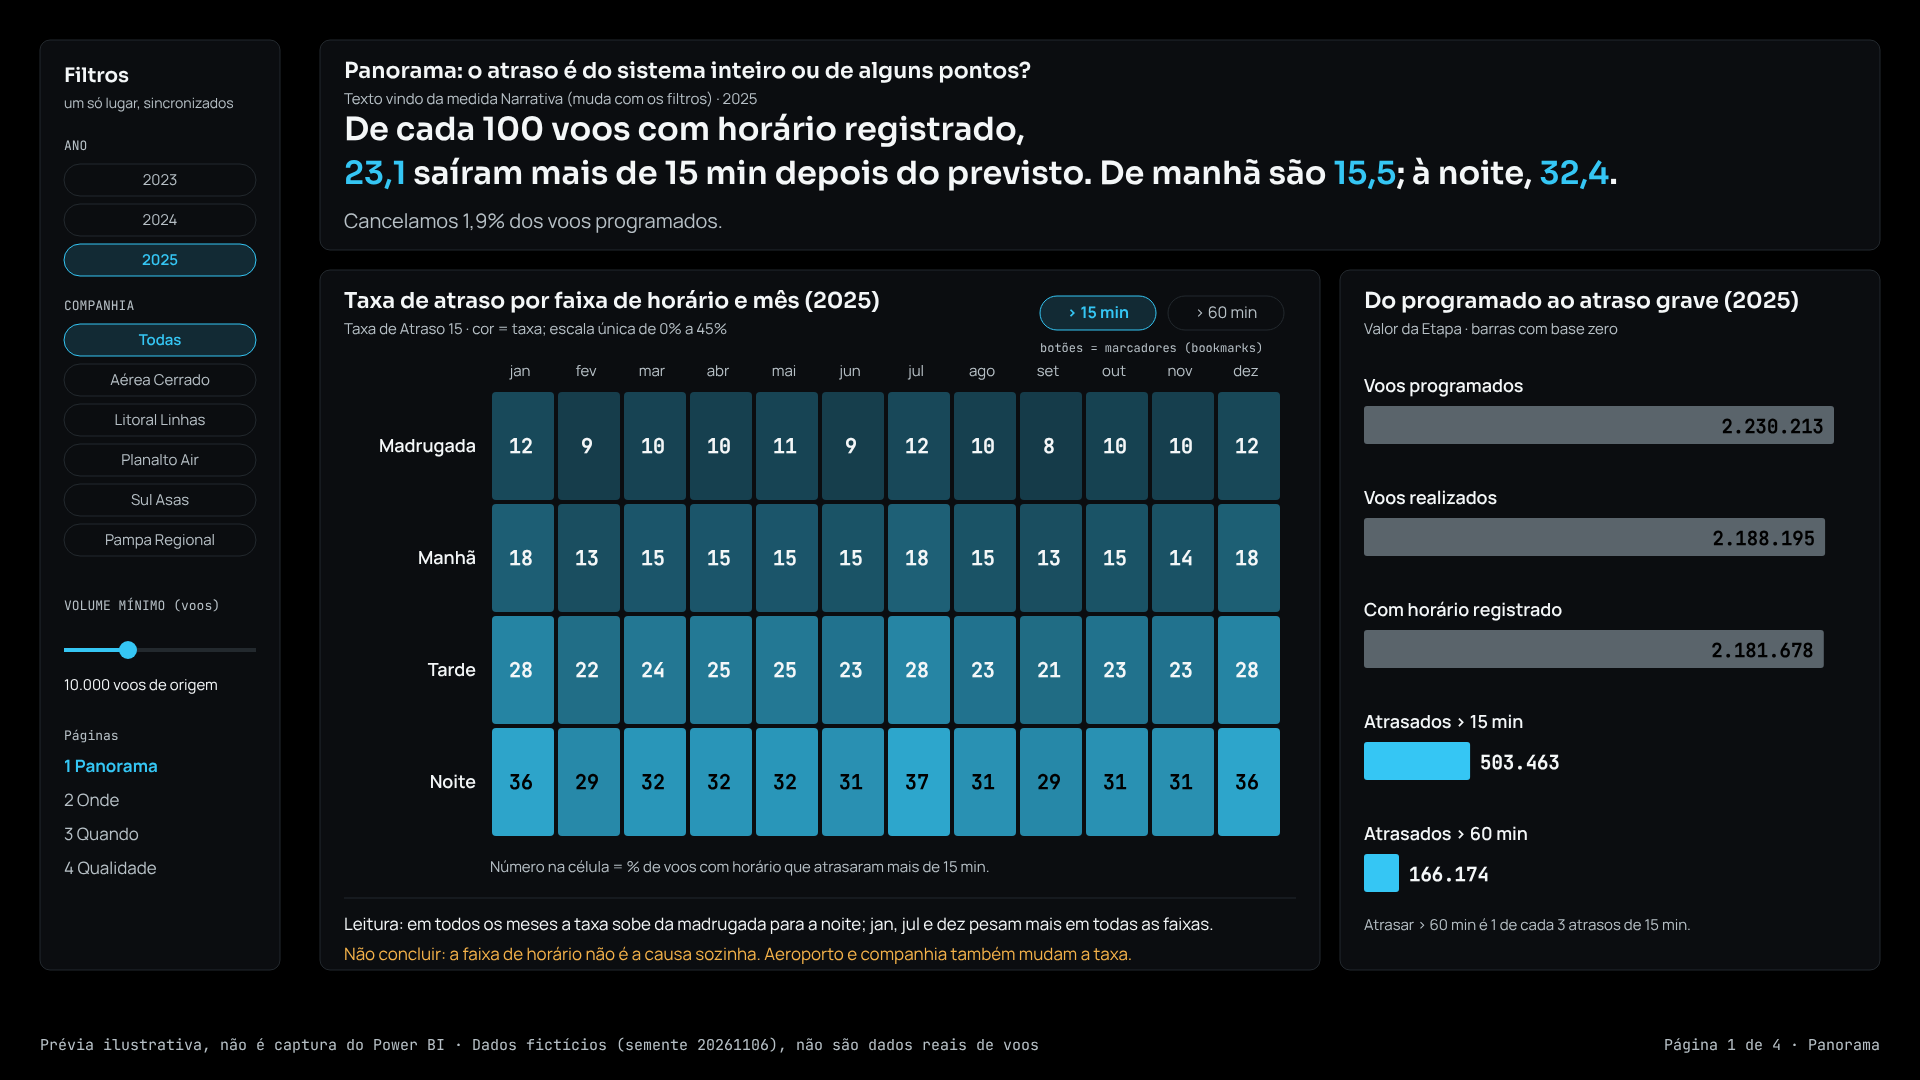

What the dashboard file says about the page in this screenshot:
{"tool":"powerbi","page":{"name":"Panorama","canvas":[1280,720],"ordinal":0},"visuals":[{"type":"textbox","box":[16,10,168,68],"z":1},{"type":"textbox","box":[200,8,860,74],"z":2},{"type":"textbox","box":[1076,10,188,68],"z":3},{"type":"slicer","title":"Ano","fields":{"Values":["dim_calendario.ano"]},"box":[16,84,168,104],"z":9},{"type":"slicer","title":"Companhia","fields":{"Values":["dim_companhia.companhia"]},"box":[16,198,168,200],"z":10},{"type":"slicer","title":"Volume mínimo (voos)","fields":{"Values":["Param Volume Minimo.Value"]},"box":[16,408,168,96],"z":11},{"type":"card","title":"Taxa de atraso (mais de 15 min)","fields":{"Values":["_Medidas.Taxa de Atraso 15"]},"box":[200,84,257,88],"z":20},{"type":"card","title":"Voos realizados","fields":{"Values":["_Medidas.Voos Realizados"]},"box":[469,84,257,88],"z":21},{"type":"card","title":"Taxa de cancelamento","fields":{"Values":["_Medidas.Taxa de Cancelamento"]},"box":[738,84,257,88],"z":22},{"type":"card","title":"Voos sem horário registrado","fields":{"Values":["_Medidas.% de Voos Sem Horário"]},"box":[1007,84,257,88],"z":23},{"type":"card","title":"Em uma frase (muda com os filtros)","fields":{"Values":["_Medidas.Narrativa"]},"box":[200,182,1064,64],"z":24},{"type":"columnChart","title":"Atraso por faixa de horário","fields":{"Category":["dim_faixa_horario.faixa"],"Y":["_Medidas.Taxa de Atraso 15"]},"box":[200,256,420,376],"z":25},{"type":"barChart","title":"Do programado ao atraso grave","fields":{"Category":["Etapas.Etapa"],"Y":["_Medidas.Valor da Etapa"]},"box":[636,256,628,376],"z":26},{"type":"textbox","box":[200,640,1064,42],"z":27}]}

Visuals, with their boxes in screenshot pixels (x1, y1, x2, y2), scaled from the page's 1280x720 canvas onto the 1920x1080 screenshot:
textbox: [x1=24, y1=15, x2=276, y2=117]
textbox: [x1=300, y1=12, x2=1590, y2=123]
textbox: [x1=1614, y1=15, x2=1896, y2=117]
"Ano" slicer: [x1=24, y1=126, x2=276, y2=282]
"Companhia" slicer: [x1=24, y1=297, x2=276, y2=597]
"Volume mínimo (voos)" slicer: [x1=24, y1=612, x2=276, y2=756]
"Taxa de atraso (mais de 15 min)" card: [x1=300, y1=126, x2=686, y2=258]
"Voos realizados" card: [x1=704, y1=126, x2=1089, y2=258]
"Taxa de cancelamento" card: [x1=1107, y1=126, x2=1492, y2=258]
"Voos sem horário registrado" card: [x1=1510, y1=126, x2=1896, y2=258]
"Em uma frase (muda com os filtros)" card: [x1=300, y1=273, x2=1896, y2=369]
"Atraso por faixa de horário" columnChart: [x1=300, y1=384, x2=930, y2=948]
"Do programado ao atraso grave" barChart: [x1=954, y1=384, x2=1896, y2=948]
textbox: [x1=300, y1=960, x2=1896, y2=1023]
